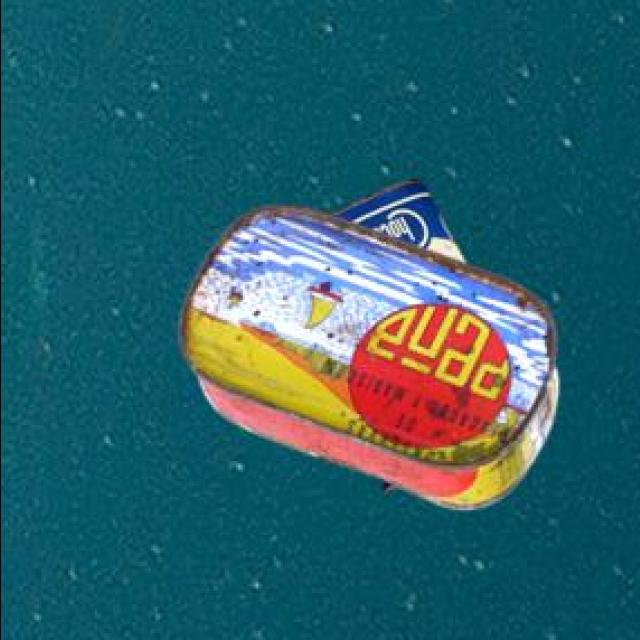logam: (176, 209, 554, 514), (328, 182, 462, 300)
